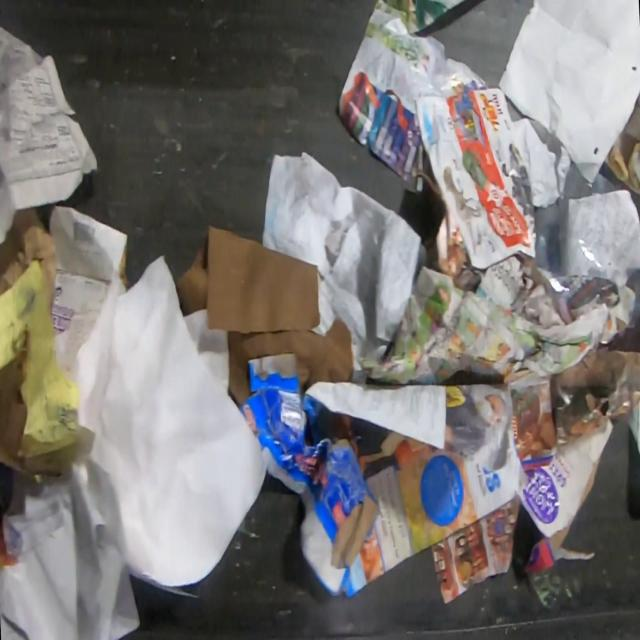cardboard: (241, 352, 408, 599), (517, 417, 614, 576), (48, 203, 130, 374), (0, 337, 67, 477), (0, 205, 58, 310), (604, 91, 640, 196)
soft_plastic: (508, 116, 626, 326)
